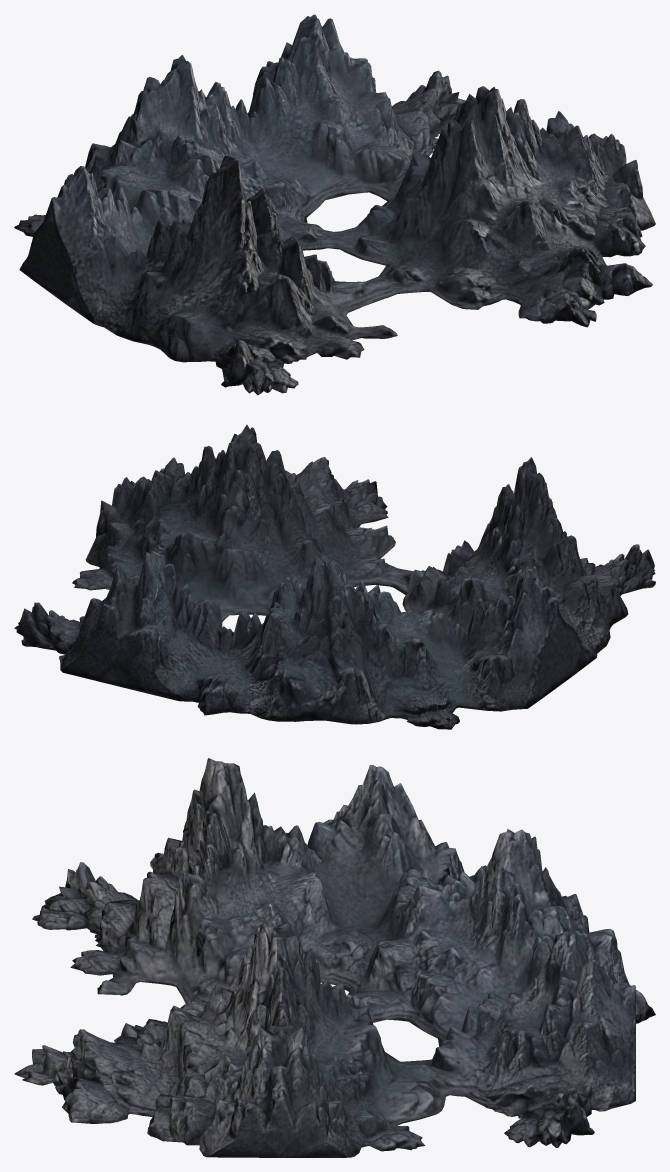
File: mountains.glb
3 renders of one model, top to bottom at view 1: azimuth 30°, elevation 25°; view 2: azimuth 150°, elevation 25°; view 3: azimuth 270°, elevation 25°, orthographic. The views are drawn at different scales.
Visible parts, largest first — view 1: mountains; view 2: mountains; view 3: mountains.
Part boxes in pixels (bbox=[...]): mountains: bbox=[14, 14, 655, 395]; mountains: bbox=[14, 424, 655, 729]; mountains: bbox=[14, 758, 655, 1157].
Bounding box in the file's own units: 0.9796 × 0.2971 × 0.9564.
1 material, 1 textured.
